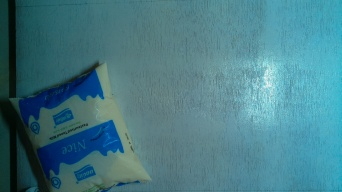m: (12, 62, 152, 192)
